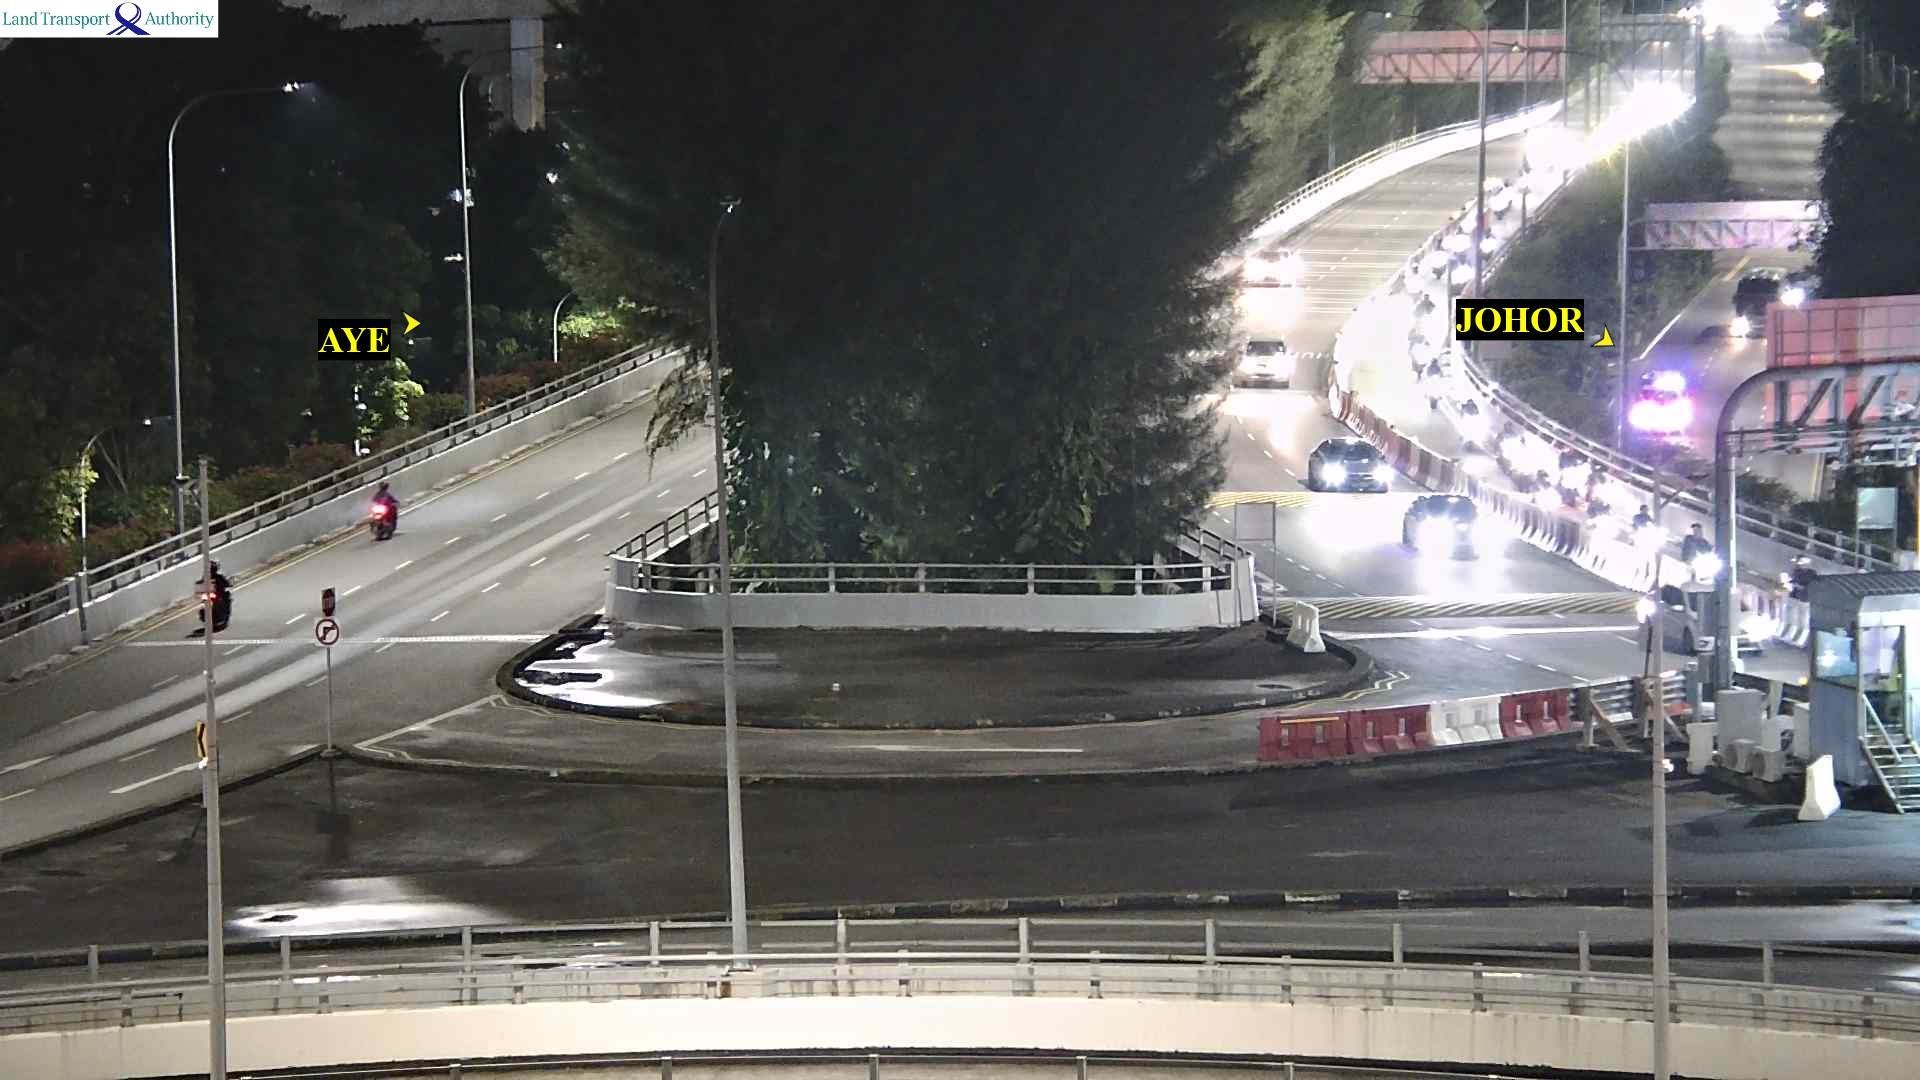vehicle-secondlink-johor: (1312, 439, 1393, 495), (1408, 492, 1482, 538), (1236, 338, 1299, 386), (1241, 253, 1303, 291), (1531, 471, 1556, 516), (1499, 422, 1523, 467), (1425, 364, 1449, 409), (1410, 327, 1436, 365), (1415, 294, 1444, 326), (1458, 401, 1481, 440)
vehicle-secondlink-singapore: (199, 567, 236, 624), (367, 481, 398, 535)
